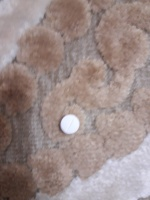Arveles: (58, 113, 81, 137)
